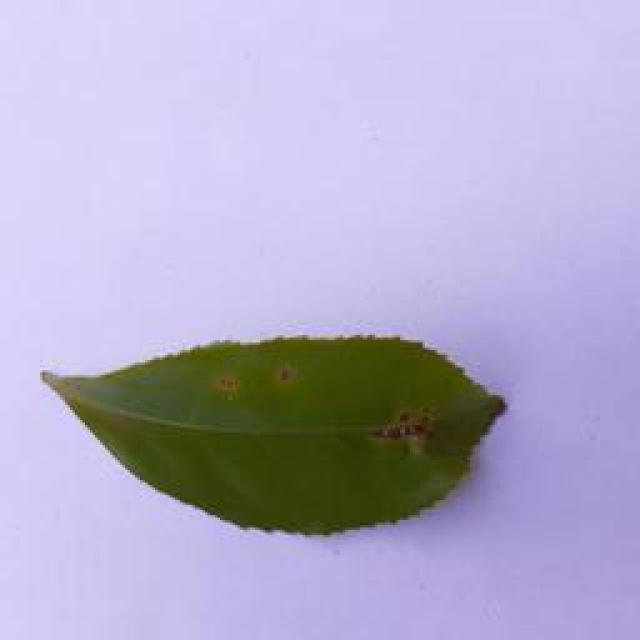Helopeltis: (31, 320, 512, 551)
